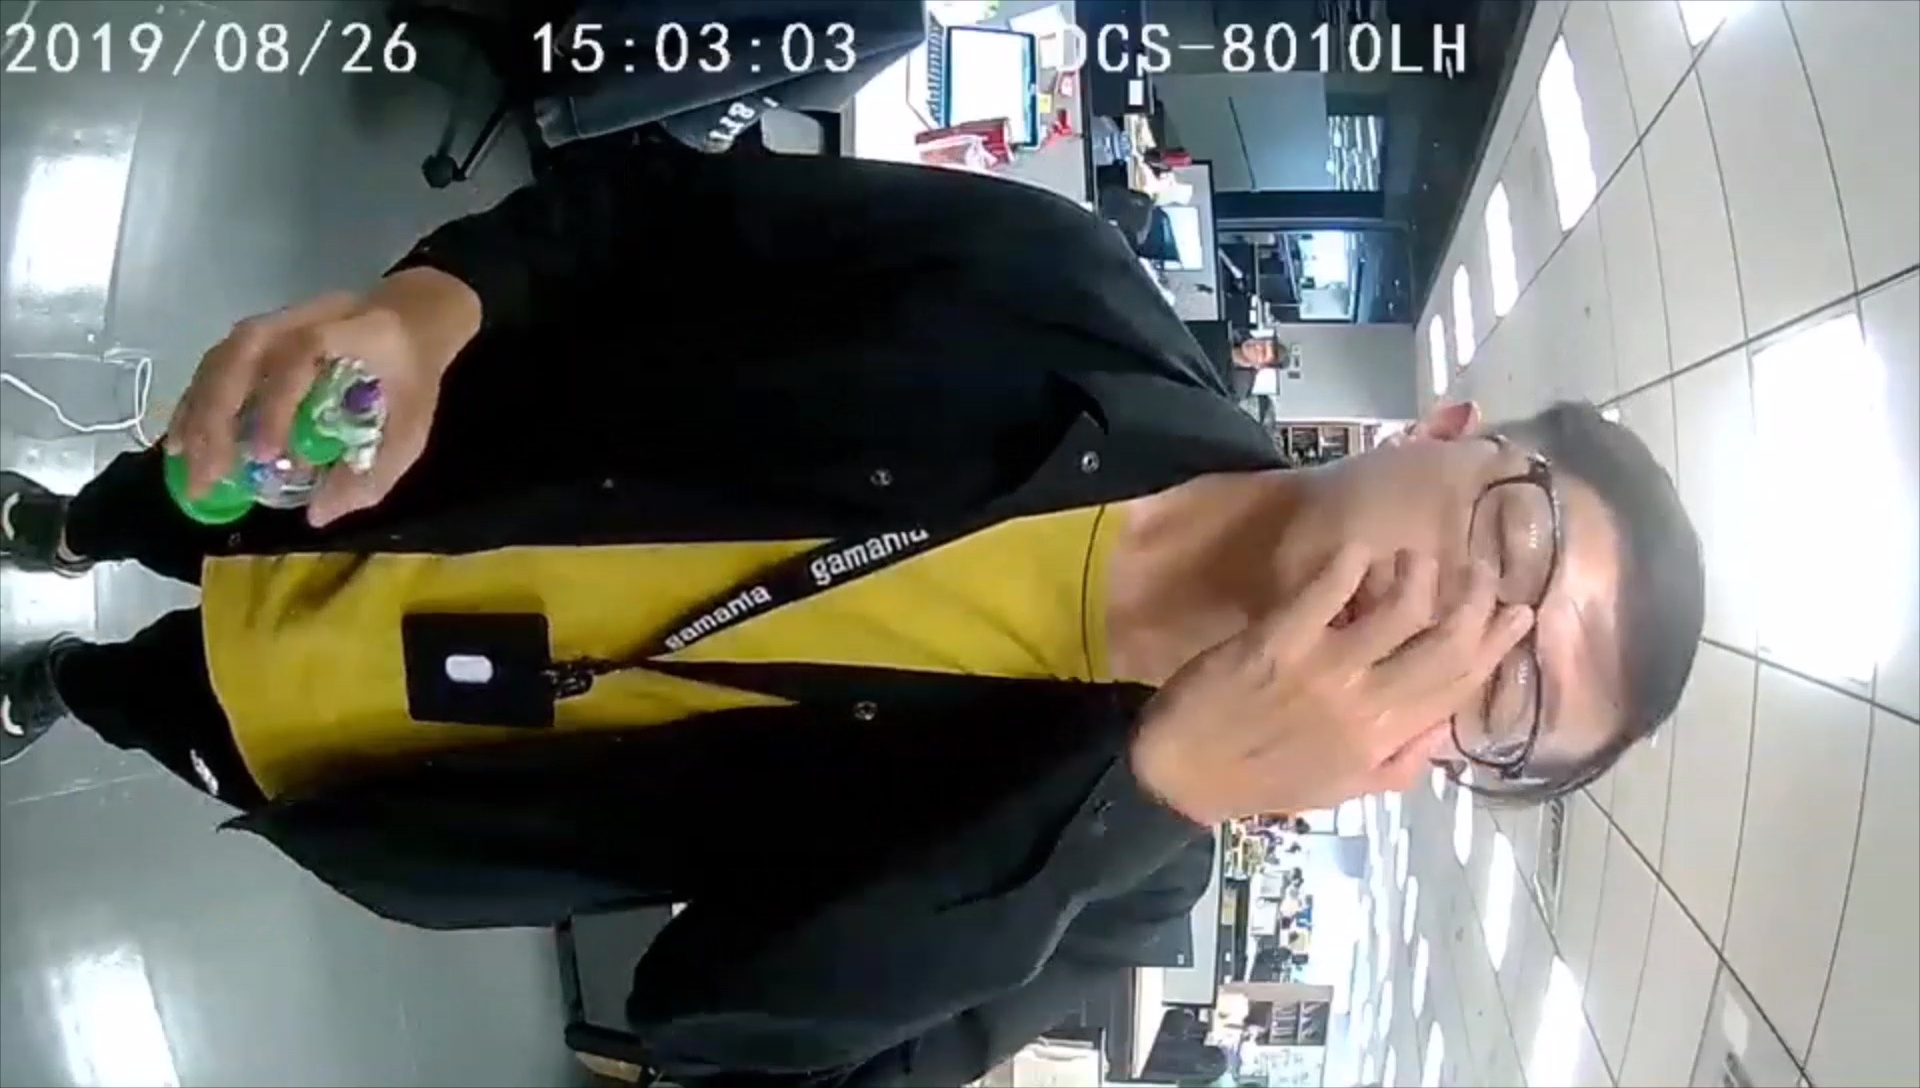buzz: (165, 351, 396, 525)
